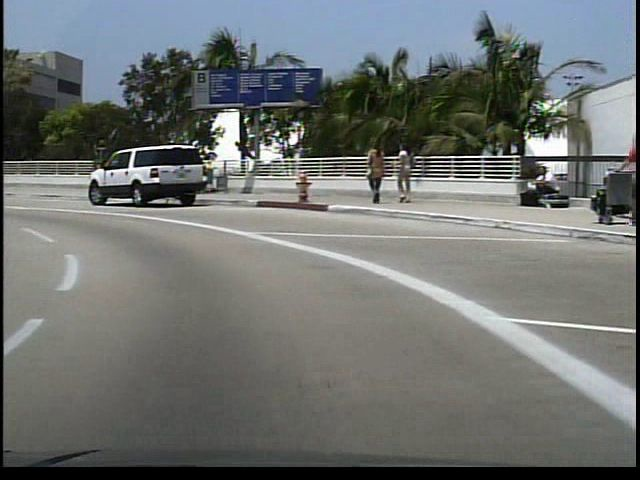person: (606, 125, 637, 232), (363, 137, 385, 210), (388, 142, 413, 206), (522, 164, 557, 208)
